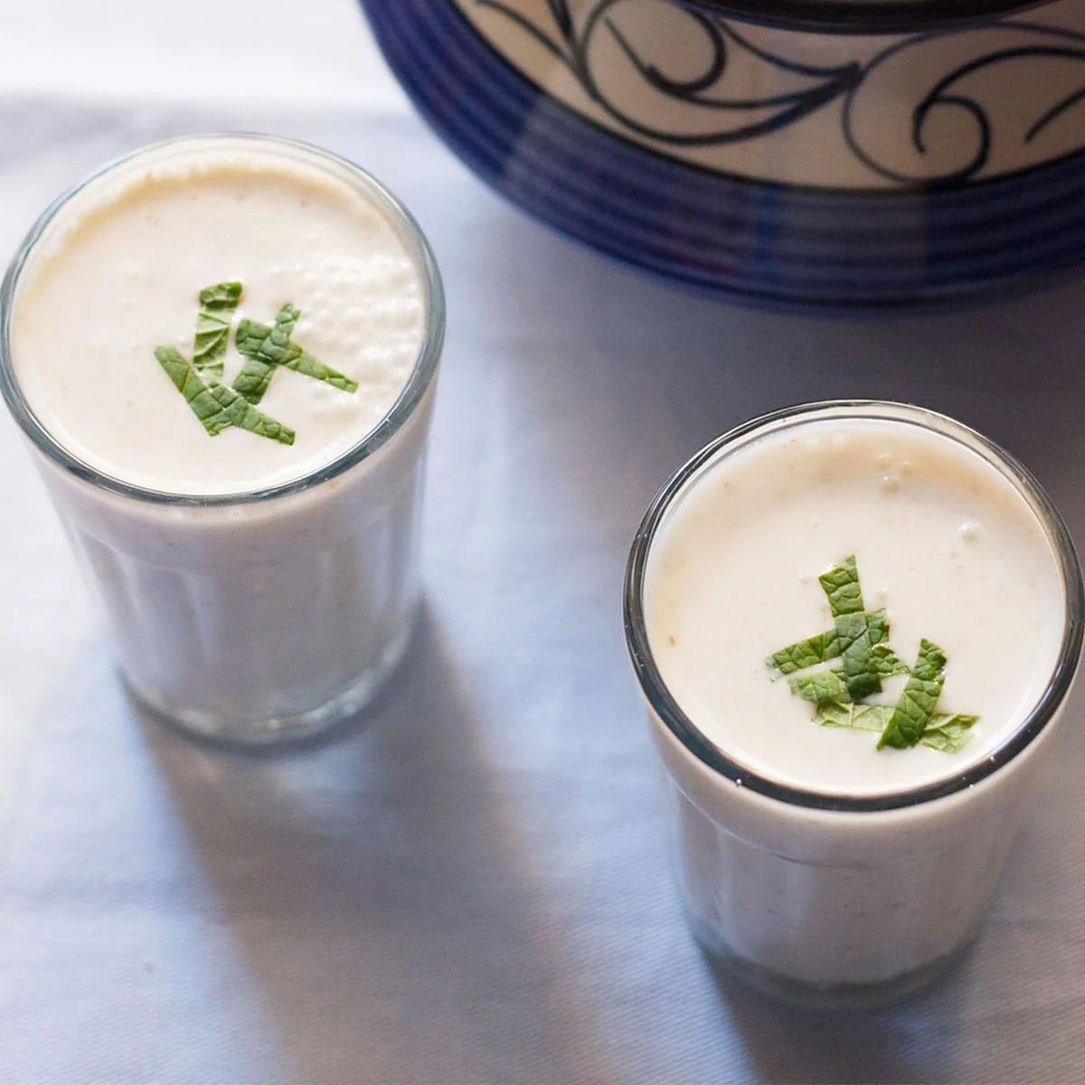Lassi: (644, 419, 1066, 985), (9, 149, 426, 713)
